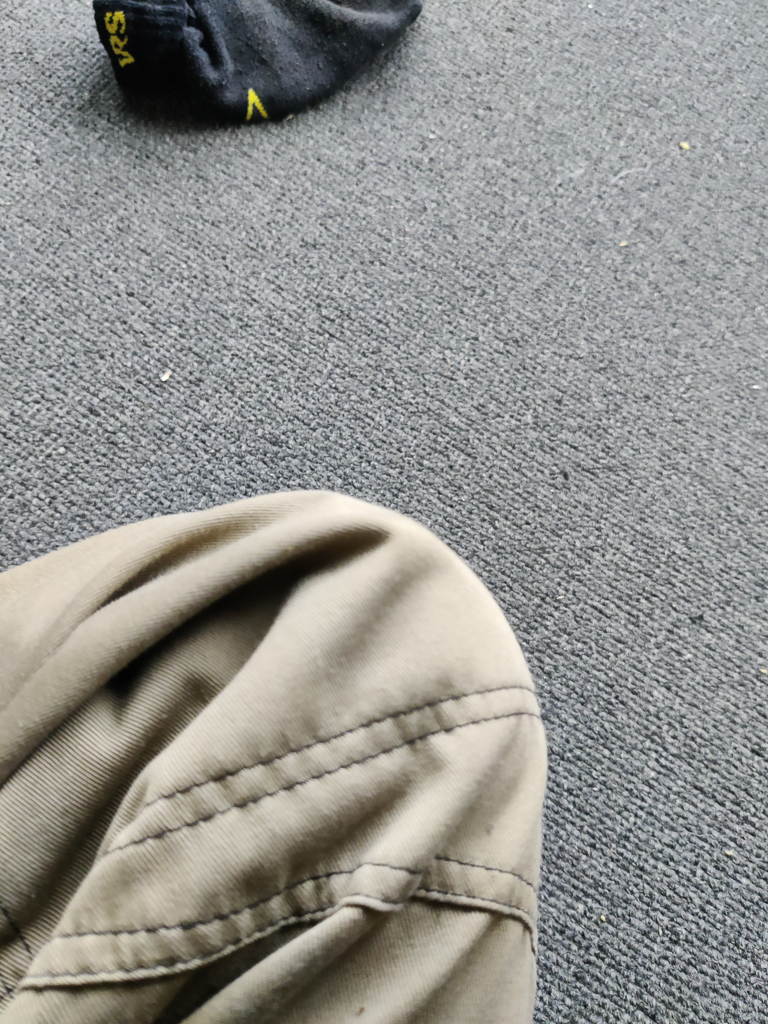Humanoid: (0, 481, 576, 1024)
